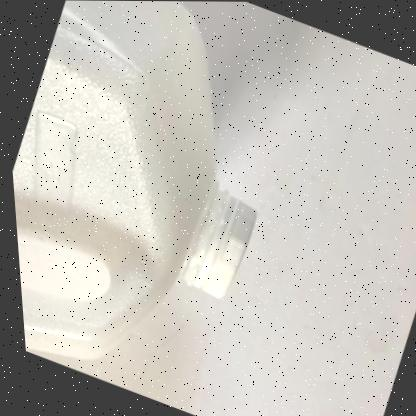Plastic: (10, 0, 251, 360)
